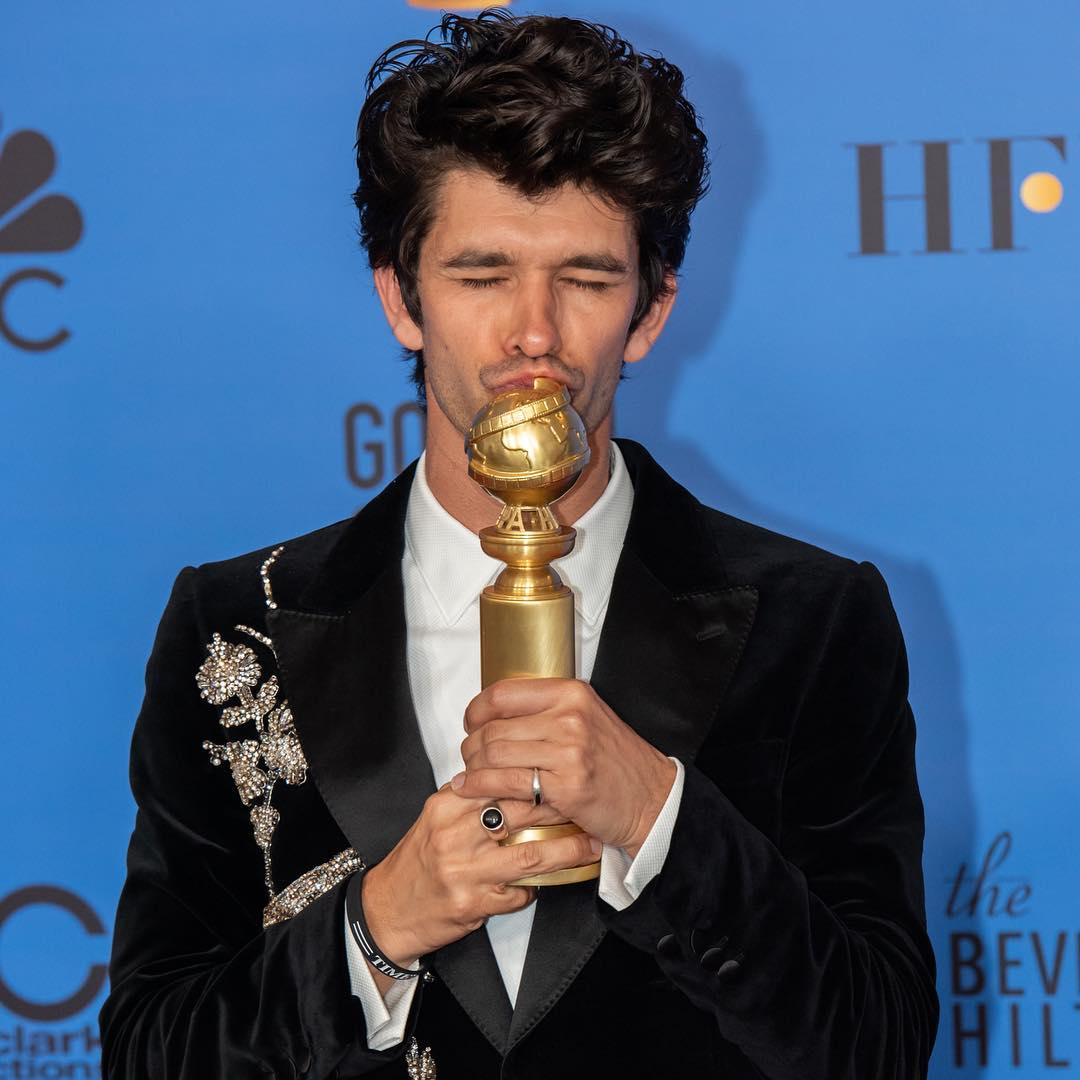hand: (472, 695, 654, 793)
